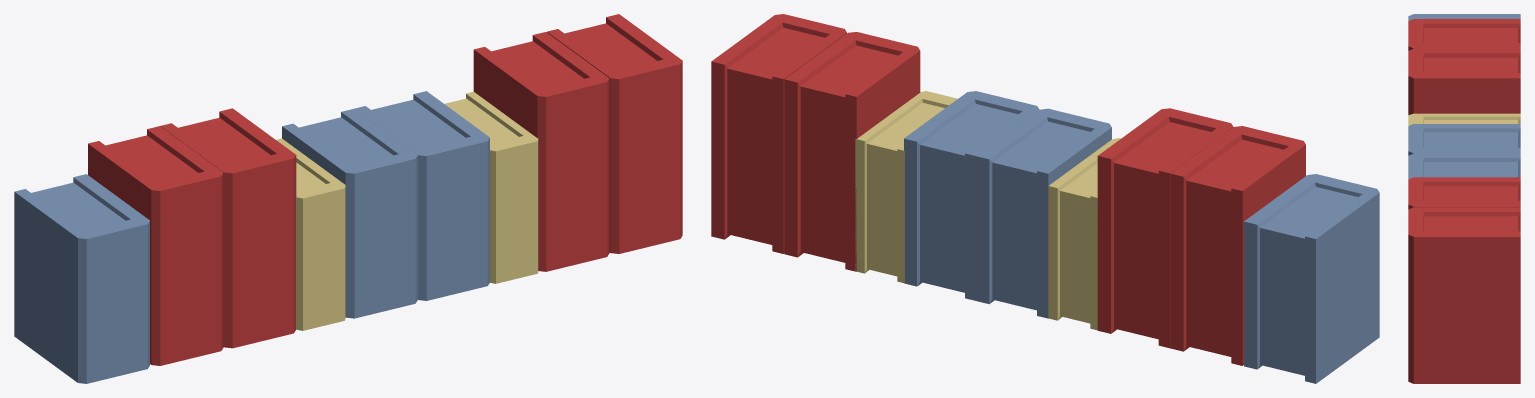
The model's file is bookstack4.fbx.
3 renders of one model, left to right at view 1: azimuth 30°, elevation 25°; view 2: azimuth 150°, elevation 25°; view 3: azimuth 270°, elevation 25°, orthographic. The views are drawn at different scales.
Parts seen in each view (by area): view 1: bookstack4; view 2: bookstack4; view 3: bookstack4.
Part boxes in pixels (<box>): bookstack4: <box>14,14,682,383</box>; bookstack4: <box>711,14,1379,383</box>; bookstack4: <box>1408,14,1520,383</box>.
Size of the model in its own units: 84.66 by 23.4 by 16.19.
